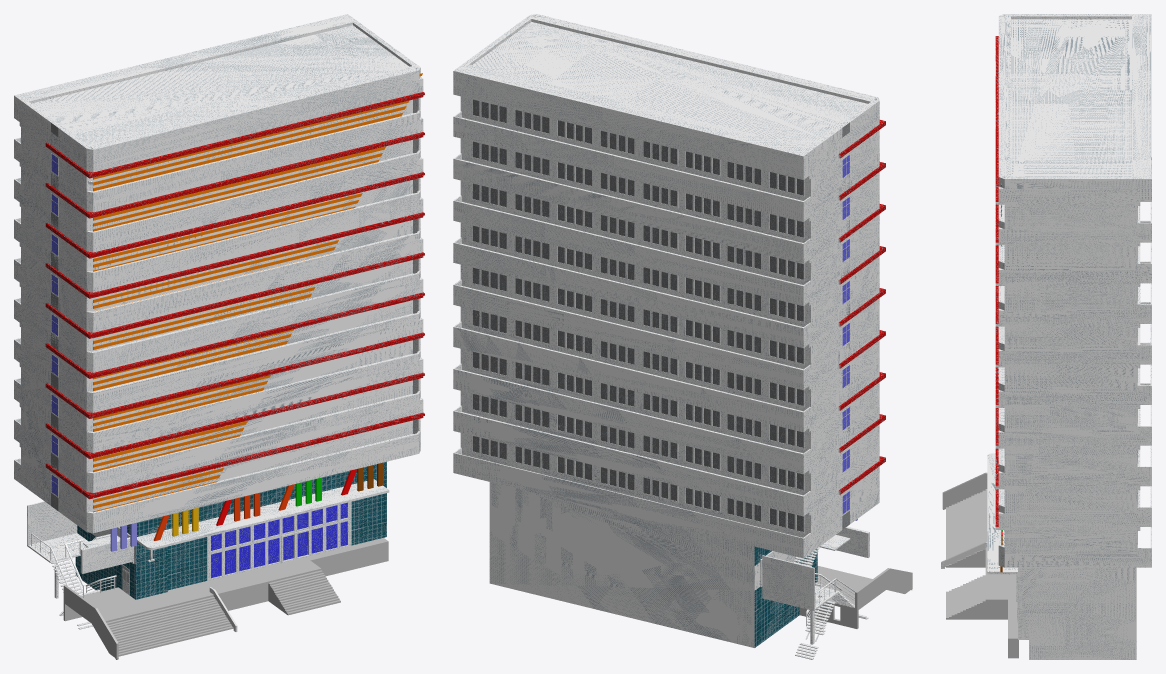
Rendered from Tòa I.dae.
The picture shows the model from 3 angles, left to right: view 1: azimuth 30°, elevation 25°; view 2: azimuth 150°, elevation 25°; view 3: azimuth 270°, elevation 25°; orthographic projection. The views are drawn at different scales.
Parts seen in each view (by area): view 1: Component_2 (×18), Component_1 (×9), Component_3 (×2), group_53 (×17), group_47 (×3), group_46, group_49, group_31, group_48; view 2: Component_1 (×9), Component_2 (×9), Component_3 (×2), group_47 (×2), group_31, group_46, group_48, group_51; view 3: Component_2 (×10), Component_3 (×2), Component_1 (×9), group_47 (×2), group_49, group_46, group_52, group_55.
Boxes of the visible parts, box(x1,y1,x2,y2) form: Component_2 (×18): box(19, 76, 424, 518); Component_1 (×9): box(14, 110, 420, 533); Component_3 (×2): box(14, 14, 420, 171); group_53 (×17): box(93, 100, 409, 461); group_47 (×3): box(75, 461, 389, 599); group_46: box(63, 570, 268, 657); group_49: box(253, 537, 388, 615); group_31: box(27, 501, 88, 562); group_48: box(80, 527, 133, 573); Component_1 (×9): box(453, 111, 879, 558); Component_2 (×9): box(460, 96, 879, 538); Component_3 (×2): box(453, 14, 879, 179); group_47 (×2): box(489, 482, 817, 647); group_31: box(762, 555, 838, 610); group_46: box(799, 566, 910, 628); group_48: box(760, 526, 869, 586); group_51: box(855, 568, 890, 608); Component_2 (×10): box(995, 36, 1140, 554); Component_3 (×2): box(998, 14, 1151, 201); Component_1 (×9): box(998, 202, 1151, 567); group_47 (×2): box(987, 453, 1136, 659); group_49: box(946, 573, 1018, 658); group_46: box(946, 489, 987, 573); group_52: box(942, 473, 985, 509); group_55: box(941, 542, 985, 568).
Size of the model in its own units: 1099 by 589 by 1575.
17 materials, 1 textured.
